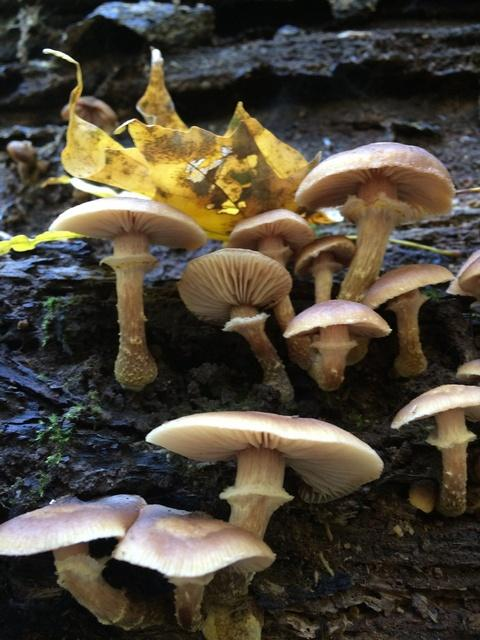Edible Mushroom: (47, 194, 207, 391), (144, 409, 384, 540), (293, 140, 455, 302), (110, 502, 276, 631), (0, 492, 147, 629), (176, 246, 296, 402), (390, 382, 479, 517), (362, 262, 454, 376), (282, 297, 391, 391)
